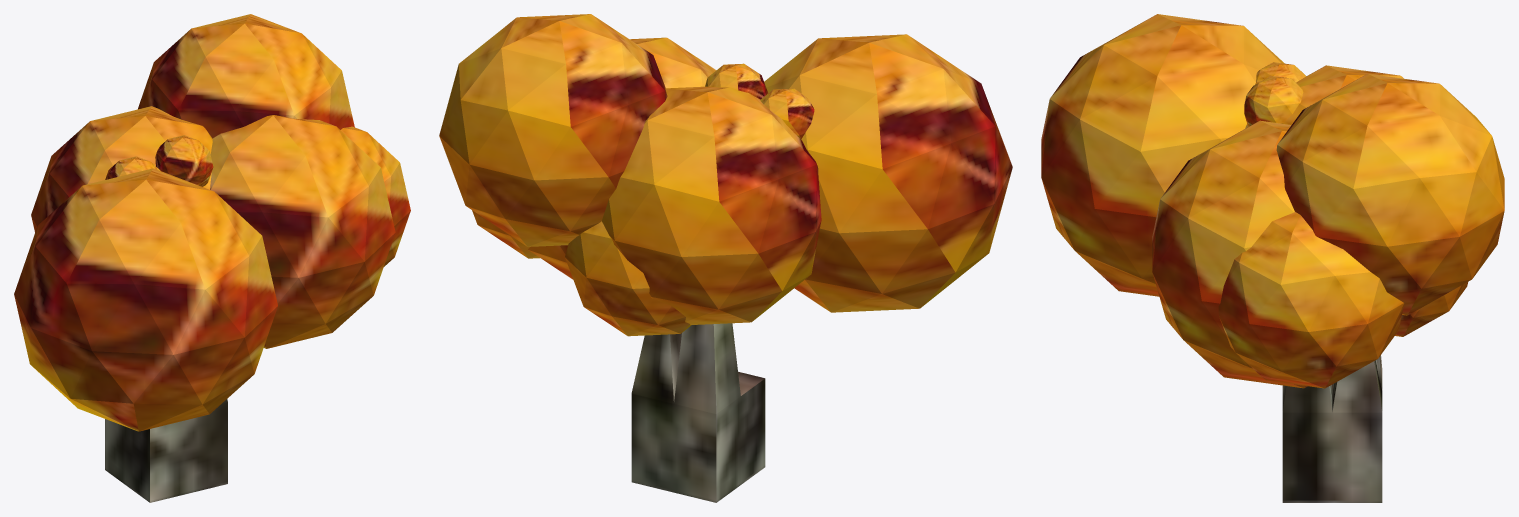
Rendered from Tree4.fbx.
3 renders of one model, left to right at view 1: azimuth 30°, elevation 25°; view 2: azimuth 150°, elevation 25°; view 3: azimuth 270°, elevation 25°, orthographic. The views are drawn at different scales.
Visible parts, largest first — view 1: Tree 4; view 2: Tree 4; view 3: Tree 4.
Part boxes in pixels (left/top/right/bottom): Tree 4: left=14, top=14, right=410, bottom=502; Tree 4: left=439, top=14, right=1012, bottom=502; Tree 4: left=1041, top=14, right=1504, bottom=502.
Bounding box in the file's own units: 928 × 1091 × 1005.
